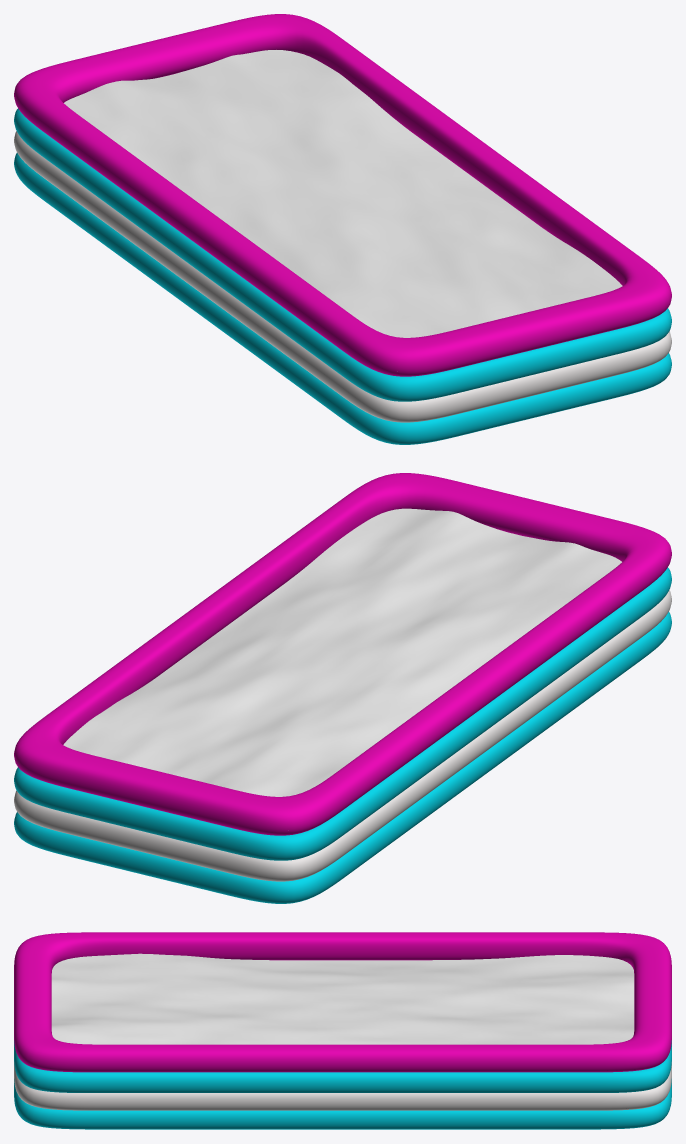
File: Pool.fbx
3 renders of one model, top to bottom at view 1: azimuth 30°, elevation 25°; view 2: azimuth 150°, elevation 25°; view 3: azimuth 270°, elevation 25°, orthographic. The views are drawn at different scales.
Parts seen in each view (by area): view 1: Cube.003, Plane; view 2: Cube.003, Plane; view 3: Cube.003, Plane.
Boxes of the visible parts, x1,y1,x2,y2 form: Cube.003: (14, 14, 671, 444); Plane: (64, 50, 622, 337); Cube.003: (14, 473, 671, 903); Plane: (63, 508, 621, 796); Cube.003: (14, 932, 671, 1129); Plane: (51, 953, 634, 1044).
Size of the model in its own units: 94.65 by 28.49 by 211.
